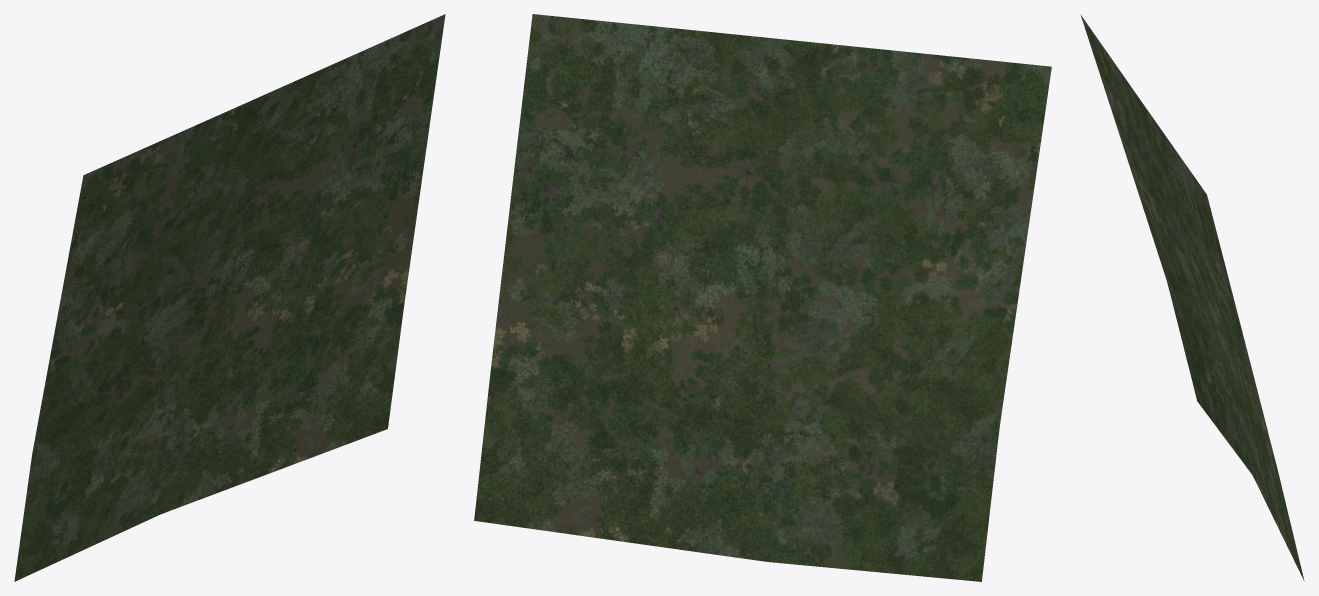
File: terrain_core_06_04.obj
The picture shows the model from 3 angles, left to right: view 1: azimuth 30°, elevation 25°; view 2: azimuth 150°, elevation 25°; view 3: azimuth 270°, elevation 25°; orthographic projection. The views are drawn at different scales.
Parts seen in each view (by area): view 1: terrain_core_06_04; view 2: terrain_core_06_04; view 3: terrain_core_06_04.
Boxes of the visible parts, <box> form: terrain_core_06_04: <box>14,14,445,581</box>; terrain_core_06_04: <box>474,14,1051,581</box>; terrain_core_06_04: <box>1081,15,1304,580</box>.
Size of the model in its own units: 32 by 32 by 16.79.
Materials: 1 (1 with a texture image).
